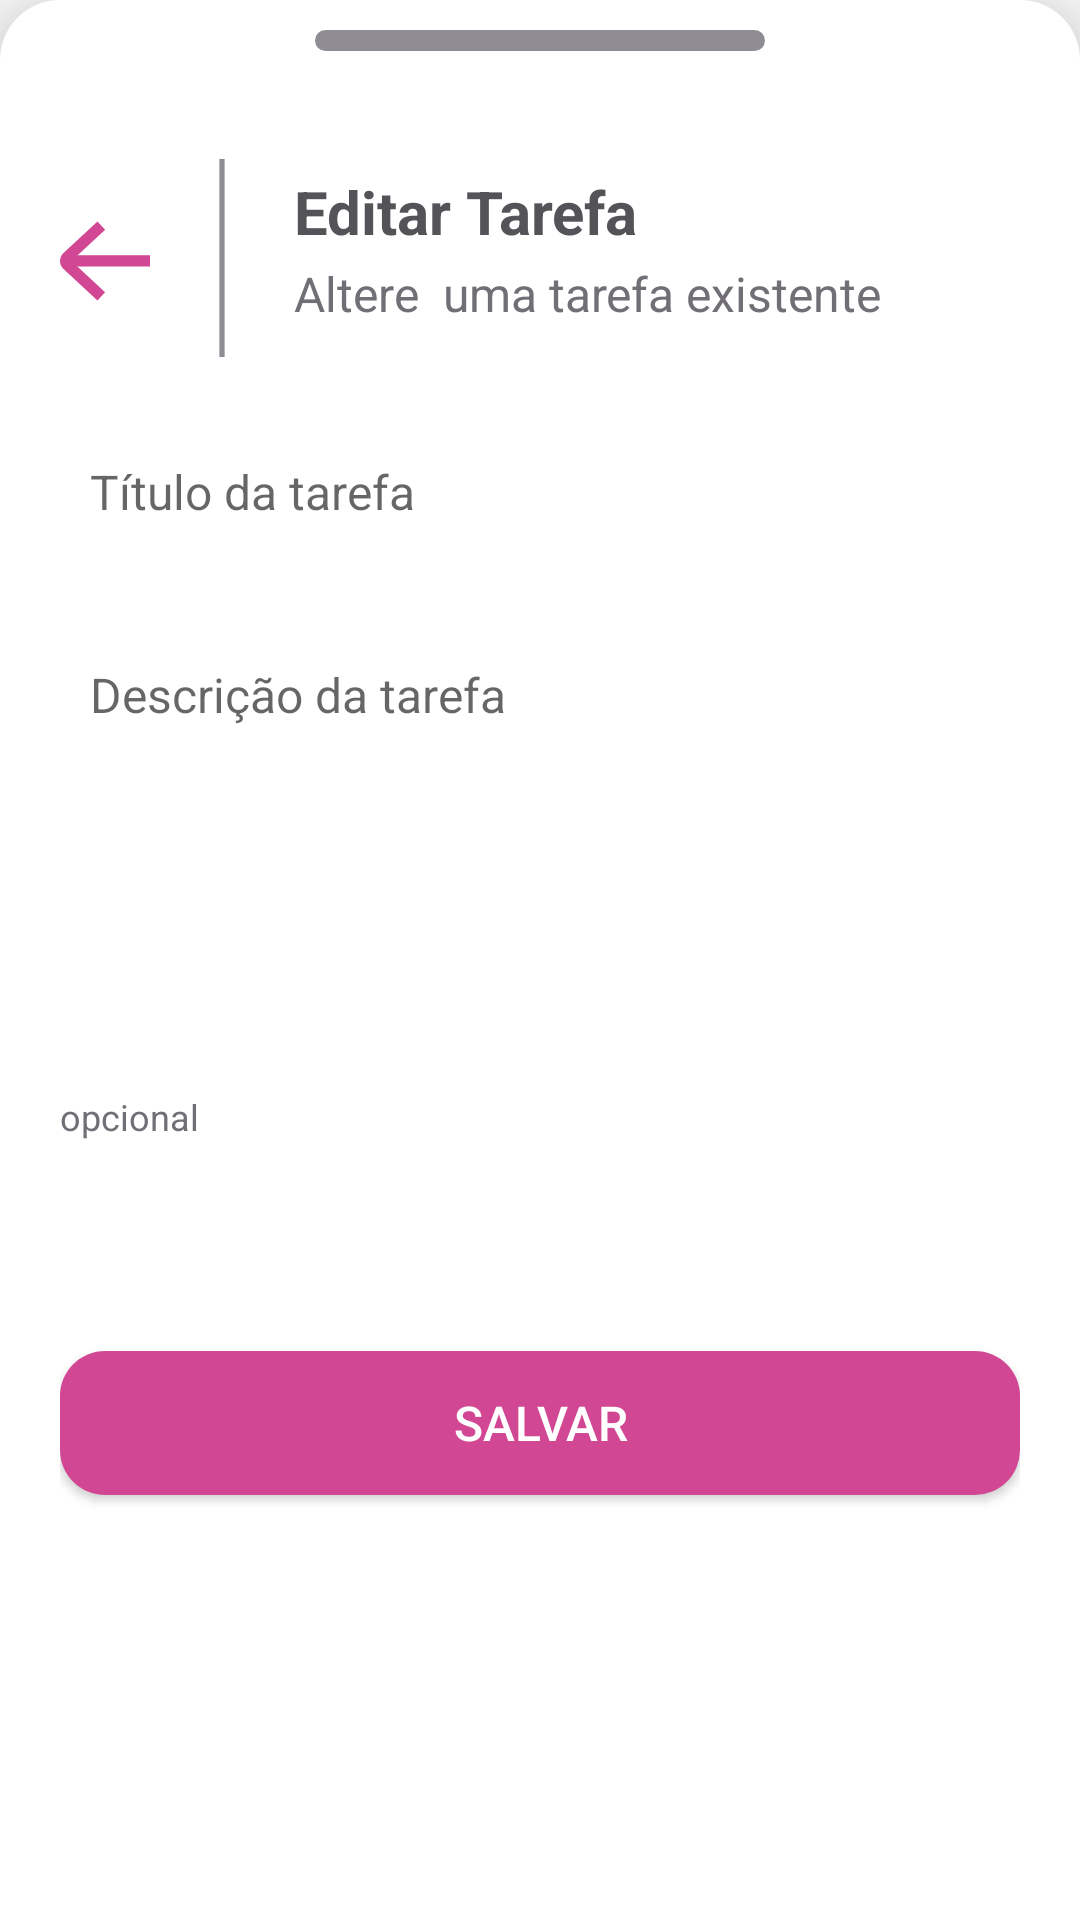

Icons on this 1080*1920 Android screen, each with its box as (x1, y1, x2, y2):
seta esquerda: (60, 221, 150, 301)
